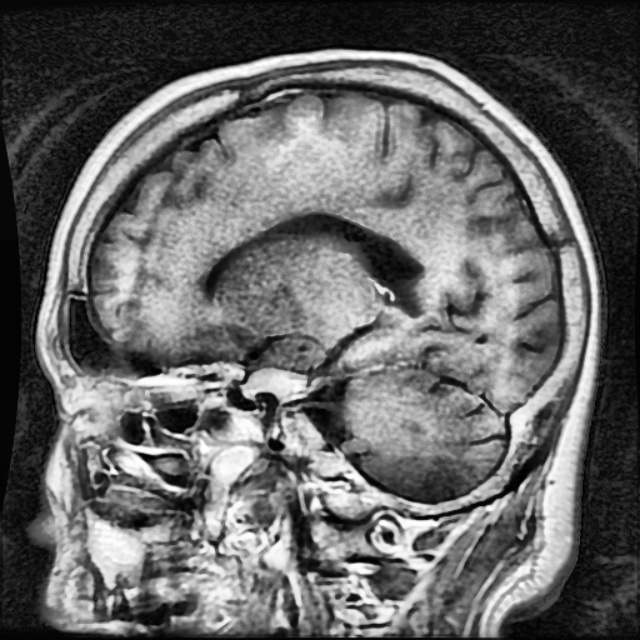Pituitary: (240, 369, 305, 399)
